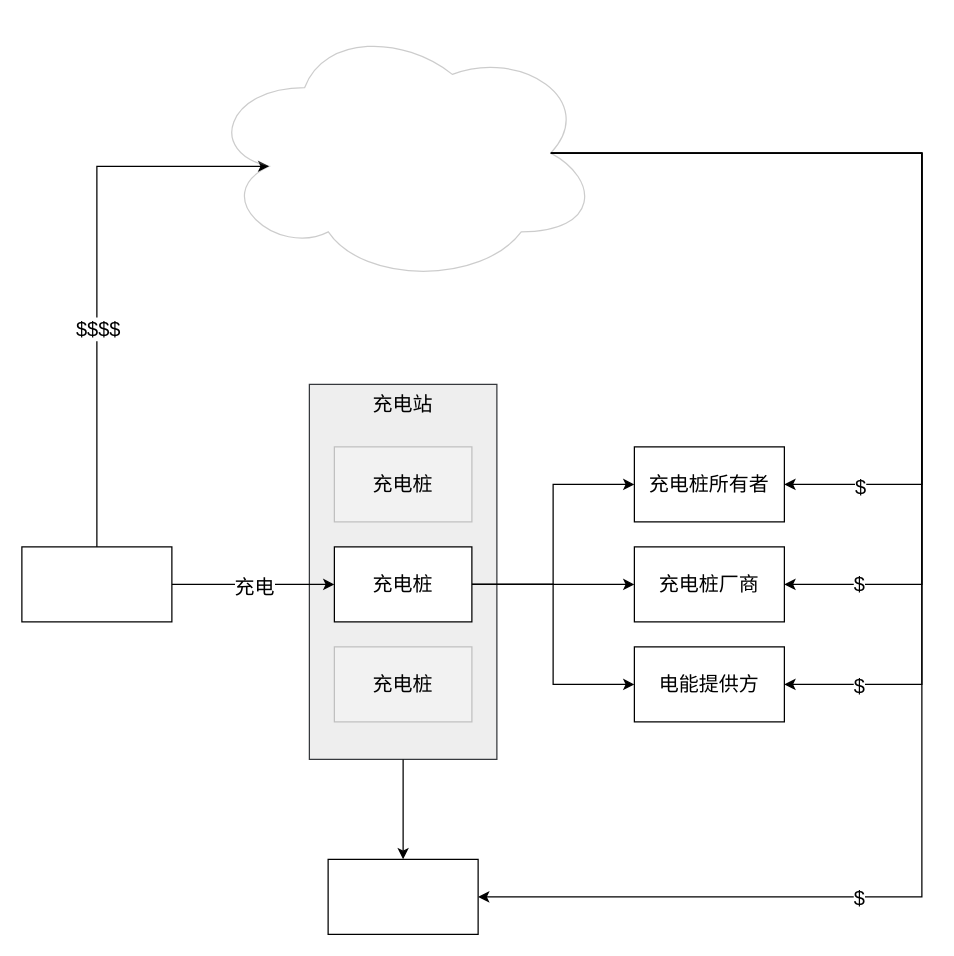
The diagram is 954 pixels wide and 956 high, and some of its shapes have lost their labels. Each missing label, with the box of its shape:
基于区块链的公开账本 记录交易 + 自动分成: (205, 21, 600, 284)
电动车: (21, 546, 172, 622)
运营方: (327, 858, 478, 934)
